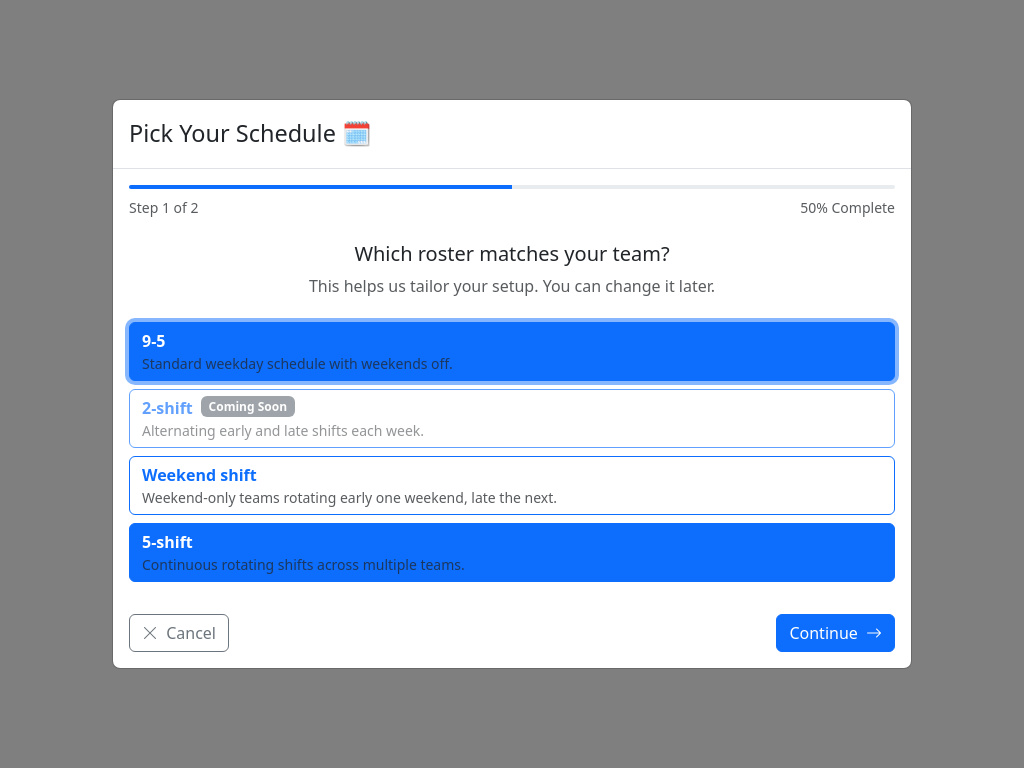
Test: WelcomeWizard › Integration tests › should show Save Schedule button when selecting schedule without team selection in change-schedule mode
The width and height of the screenshot is (1024, 768).
Expected: the heading "Which roster matches your team?" is shown, [354, 240, 670, 267]
Note: Select a schedule that doesn't require team selection (9-5)
Click the button "9-5 Standard weekday schedule with weekends off." at (297, 363), box [129, 322, 895, 381]
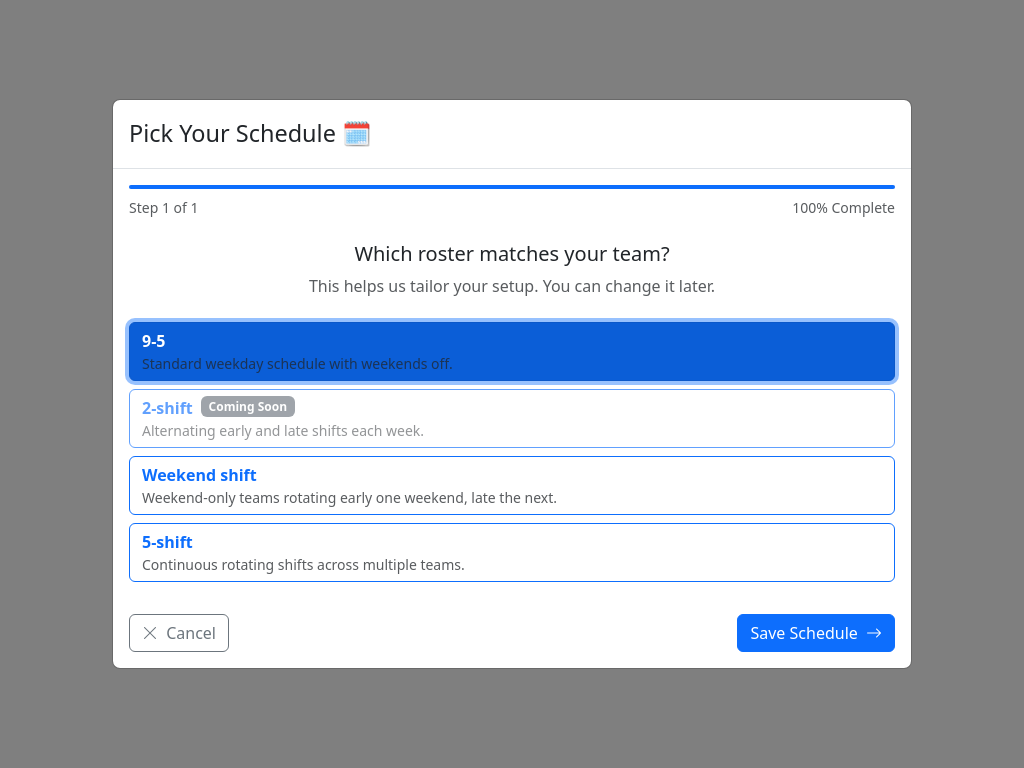
Result: the button "Save Schedule" is shown at [738, 614, 895, 652]
